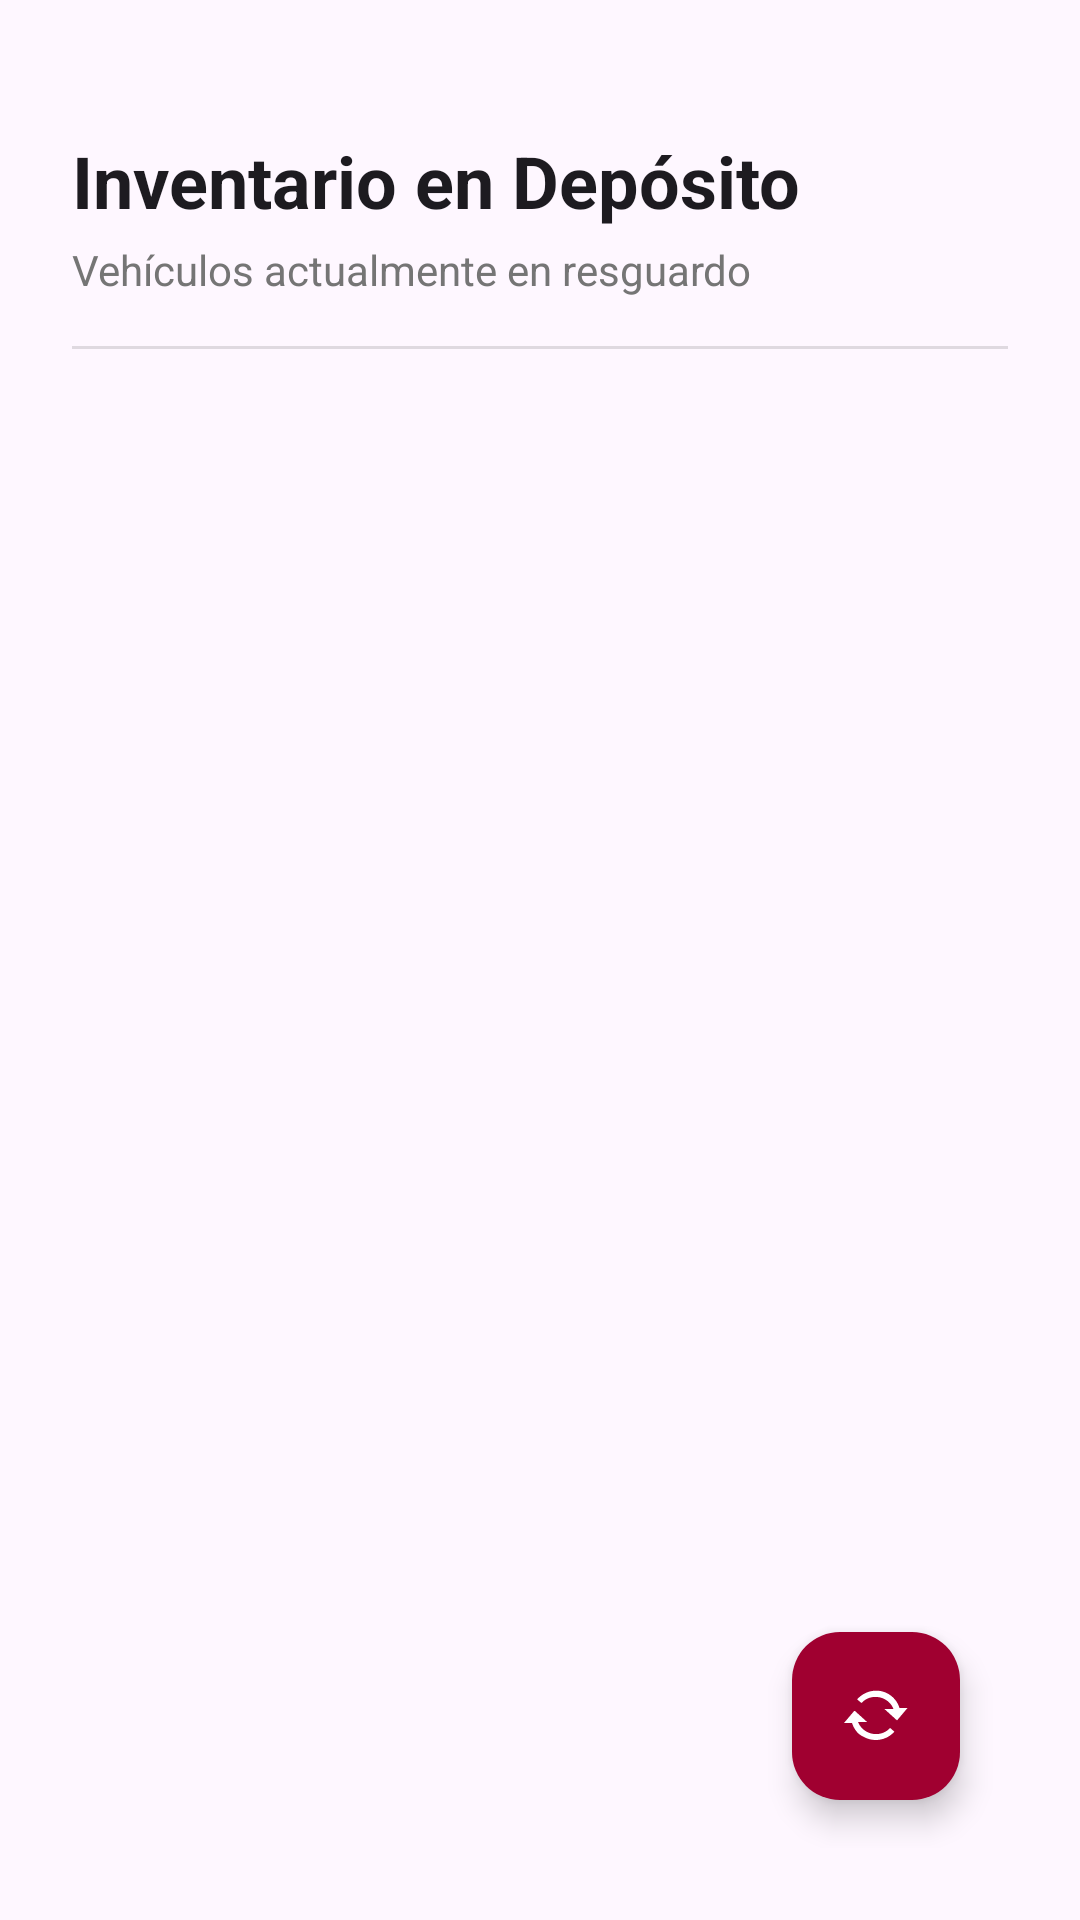

Screen size 1080 x 1920. Icon name, then its center in pixels as (x,y):
Actualizar Lista: (876,1716)
